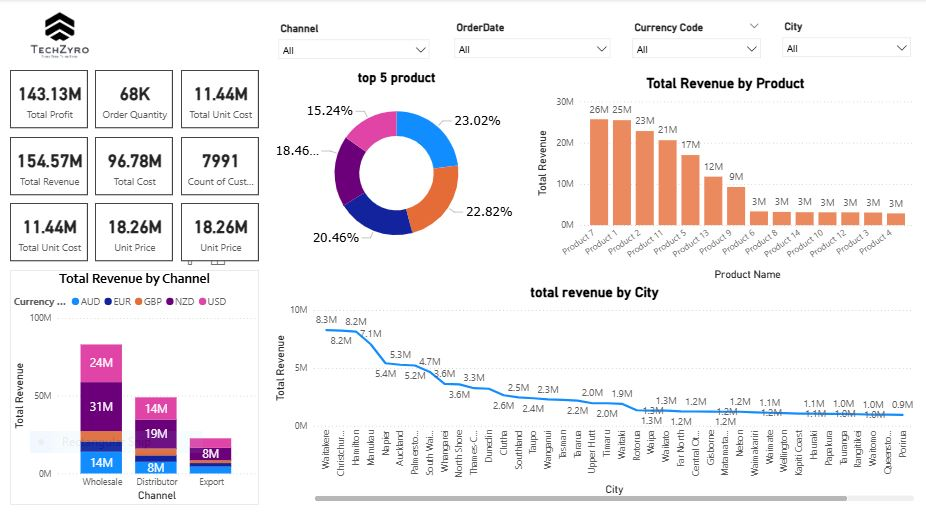

This screenshot's page, from the dashboard's own definition file:
{"tool":"powerbi","page":{"name":"Page 1","canvas":[1280,720],"ordinal":0},"visuals":[{"type":"columnChart","title":"Total Revenue by Product","fields":{"Y":["Sum(Sales_Data.Total Revenue)"],"Category":["Products_Data.Product Name"]},"box":[737.7,104.6,529.9,287.7],"z":0},{"type":"columnChart","title":"Total Revenue by Channel","fields":{"Y":["Sum(Sales_Data.Total Revenue)"],"Category":["Sales_Data.Channel"],"Series":["Sales_Data.Currency Code"]},"box":[17.9,373,342.7,323.4],"z":1000},{"type":"donutChart","title":"top 5 product","fields":{"Category":["Products_Data.Product Name"],"Y":["Sum(Sales_Data.Total Revenue)"]},"box":[377.1,97.7,345.5,263],"z":2000},{"type":"lineChart","title":"total revenue by City","fields":{"Y":["Sum(Sales_Data.Total Revenue)"],"Category":["Regions_Table.City"]},"box":[377.1,392.3,890.5,304.2],"z":3000},{"type":"card","fields":{"Values":["Sum(Sales_Data.Total Profit)"]},"box":[17.9,97.7,107.4,79.8],"z":4000},{"type":"slicer","fields":{"Values":["Sales_Data.Channel"]},"box":[377.1,27.5,228.5,68.8],"z":6000},{"type":"slicer","fields":{"Values":["Sales_Data.OrderDate"]},"box":[619.4,26.2,235.4,70.2],"z":7000},{"type":"slicer","fields":{"Values":["Sales_Data.Currency Code"]},"box":[864.3,26.2,196.8,71.6],"z":8000},{"type":"card","fields":{"Values":["Sum(Sales_Data.Total Revenue)"]},"box":[17.9,189.9,107.4,79.8],"z":9000},{"type":"card","fields":{"Values":["Sum(Sales_Data.Total Unit Cost)"]},"box":[17.9,280.8,107.4,79.8],"z":10000},{"type":"card","fields":{"Values":["Sum(Sales_Data.Order Quantity)"]},"box":[134.9,97.7,107.4,79.8],"z":11000},{"type":"card","fields":{"Values":["Sum(Sales_Data.Total Cost)"]},"box":[134.9,189.9,107.4,79.8],"z":12000},{"type":"card","fields":{"Values":["Sum(Sales_Data.Unit Price)"]},"box":[134.9,280.8,107.4,79.8],"z":13000},{"type":"card","fields":{"Values":["Sum(Sales_Data.Total Unit Cost)"]},"box":[253.2,97.7,107.4,79.8],"z":14000},{"type":"card","fields":{"Values":["CountNonNull(Sales_Data.Customer Name Index)"]},"box":[253.2,189.9,107.4,79.8],"z":15000},{"type":"card","fields":{"Values":["Sum(Sales_Data.Unit Price)"]},"box":[253.2,280.8,107.4,79.8],"z":16000},{"type":"textbox","box":[360.6,0,103.2,28.9],"z":18000},{"type":"image","box":[17.9,6.9,132.1,89.5],"z":18001},{"type":"slicer","fields":{"Values":["Regions_Table.City"]},"box":[1070.8,24.8,196.8,71.6],"z":18002}]}

Visuals, with their boxes in screenshot pixels (x1, y1, x2, y2), scaled from the page's 1280x720 canvas onto the 926x514 screenshot:
"Total Revenue by Product" columnChart: {"x1": 534, "y1": 75, "x2": 917, "y2": 280}
"Total Revenue by Channel" columnChart: {"x1": 13, "y1": 266, "x2": 261, "y2": 497}
"top 5 product" donutChart: {"x1": 273, "y1": 70, "x2": 523, "y2": 257}
"total revenue by City" lineChart: {"x1": 273, "y1": 280, "x2": 917, "y2": 497}
card - Sum(Sales_Data.Total Profit): {"x1": 13, "y1": 70, "x2": 91, "y2": 127}
slicer - Sales_Data.Channel: {"x1": 273, "y1": 20, "x2": 438, "y2": 69}
slicer - Sales_Data.OrderDate: {"x1": 448, "y1": 19, "x2": 618, "y2": 69}
slicer - Sales_Data.Currency Code: {"x1": 625, "y1": 19, "x2": 768, "y2": 70}
card - Sum(Sales_Data.Total Revenue): {"x1": 13, "y1": 136, "x2": 91, "y2": 193}
card - Sum(Sales_Data.Total Unit Cost): {"x1": 13, "y1": 200, "x2": 91, "y2": 257}
card - Sum(Sales_Data.Order Quantity): {"x1": 98, "y1": 70, "x2": 175, "y2": 127}
card - Sum(Sales_Data.Total Cost): {"x1": 98, "y1": 136, "x2": 175, "y2": 193}
card - Sum(Sales_Data.Unit Price): {"x1": 98, "y1": 200, "x2": 175, "y2": 257}
card - Sum(Sales_Data.Total Unit Cost): {"x1": 183, "y1": 70, "x2": 261, "y2": 127}
card - CountNonNull(Sales_Data.Customer Name Index): {"x1": 183, "y1": 136, "x2": 261, "y2": 193}
card - Sum(Sales_Data.Unit Price): {"x1": 183, "y1": 200, "x2": 261, "y2": 257}
textbox: {"x1": 261, "y1": 0, "x2": 336, "y2": 21}
image: {"x1": 13, "y1": 5, "x2": 109, "y2": 69}
slicer - Regions_Table.City: {"x1": 775, "y1": 18, "x2": 917, "y2": 69}
